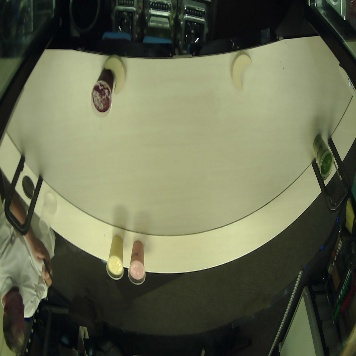empty_cup: (39, 191, 58, 234)
full_cup: (91, 66, 116, 116), (311, 132, 334, 175), (126, 239, 147, 285), (105, 234, 124, 281)
puck: (103, 53, 127, 95), (229, 51, 253, 93)
